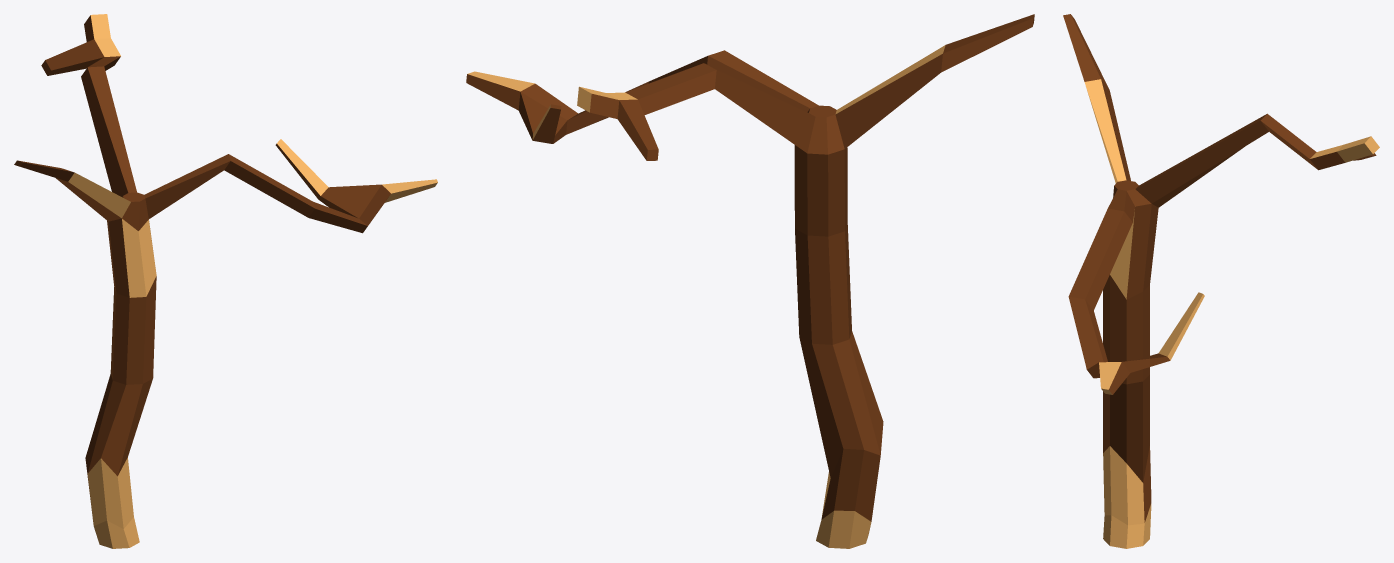
File: IsometricTile_Between_Tree.fbx
3 views of the same model, side by side, from view 1: azimuth 30°, elevation 25°; view 2: azimuth 150°, elevation 25°; view 3: azimuth 270°, elevation 25° (orthographic). The views are drawn at different scales.
Visible parts, largest first — view 1: Cylinder; view 2: Cylinder; view 3: Cylinder.
Part boxes in pixels (<box>): Cylinder: <box>14,14,437,548</box>; Cylinder: <box>466,14,1034,548</box>; Cylinder: <box>1063,14,1379,548</box>.
Size of the model in its own units: 1.08 by 1.84 by 1.73.
